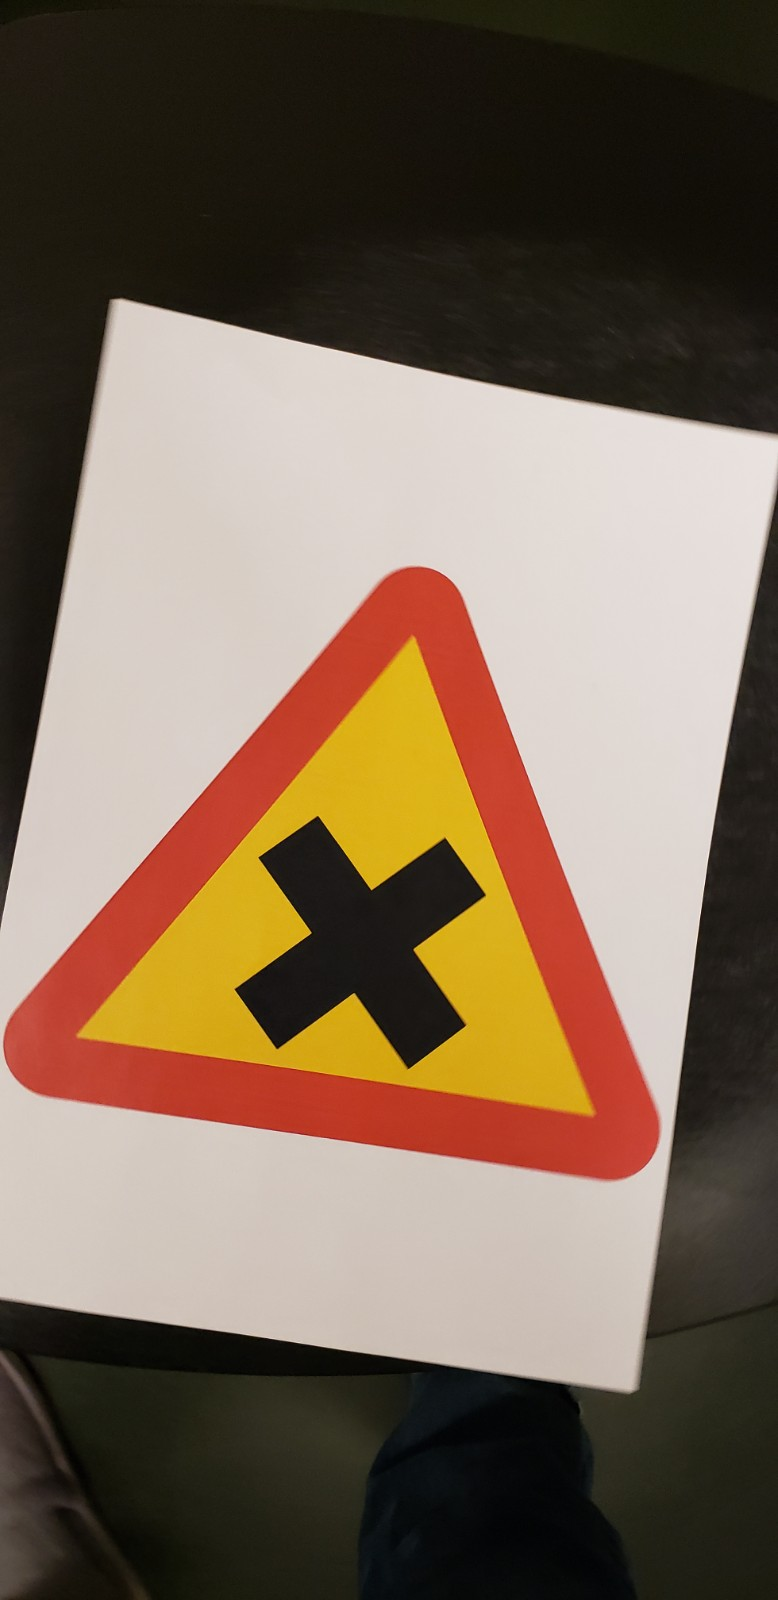junction: (52, 519, 742, 1301)
